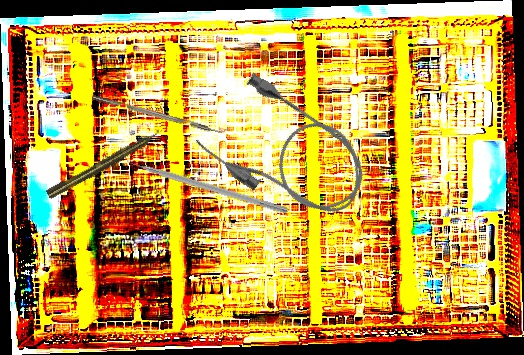Cannula: (190, 66, 382, 239)
Chopper: (116, 147, 292, 215), (92, 87, 230, 139)
Handpiece: (45, 127, 163, 201)
